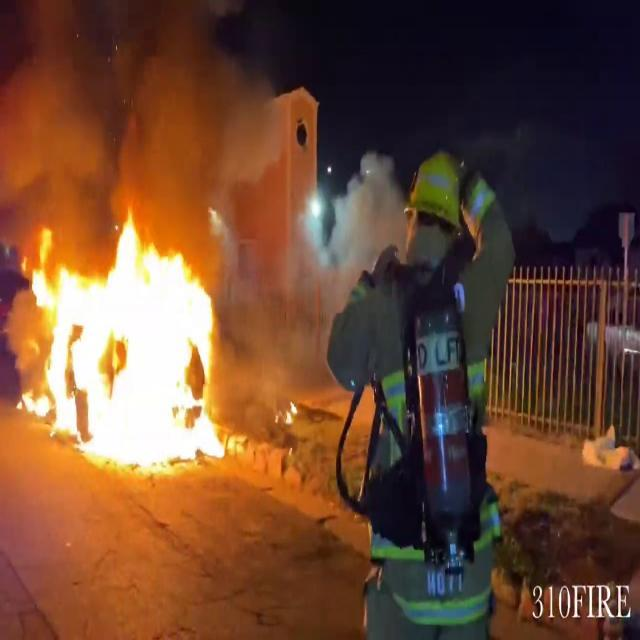Fire: (12, 204, 244, 476)
Smoke: (0, 0, 286, 241)
